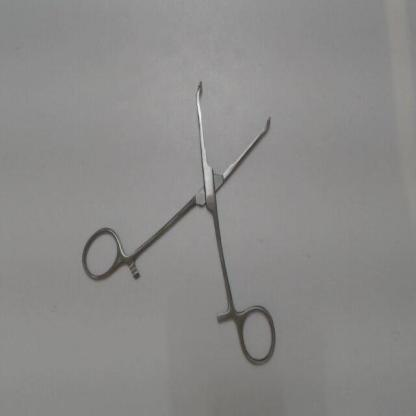Allis Tissue Forceps: (76, 74, 286, 376)
